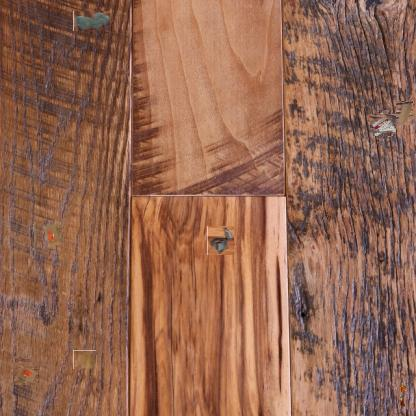dirty: (206, 226, 236, 255), (42, 220, 62, 250), (14, 360, 38, 384), (372, 112, 394, 135), (394, 102, 414, 124), (398, 383, 408, 409)
liquid: (73, 11, 110, 31), (73, 350, 96, 369)
